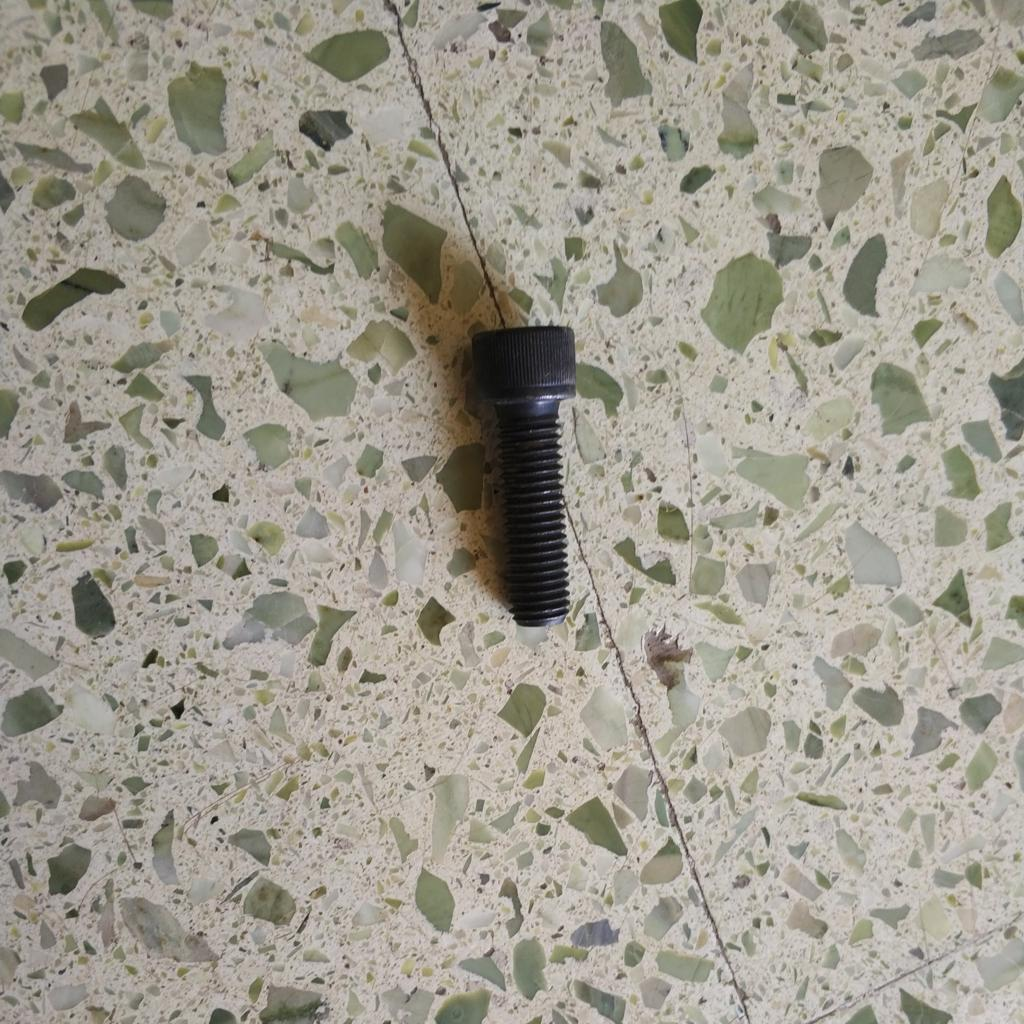screwtype1black: (466, 318, 586, 634)
